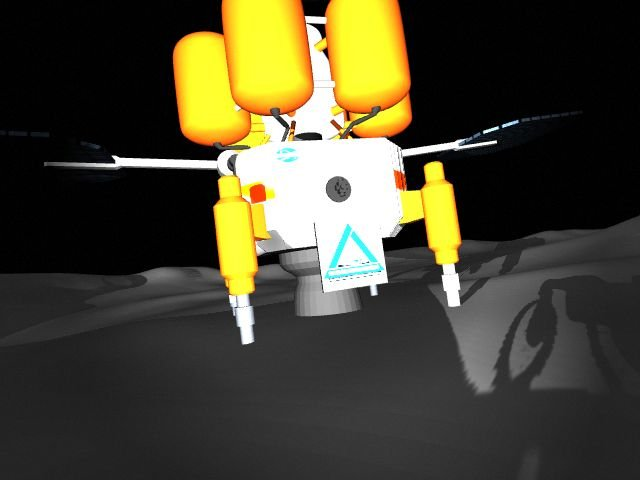basemarker: (323, 222, 387, 282)
